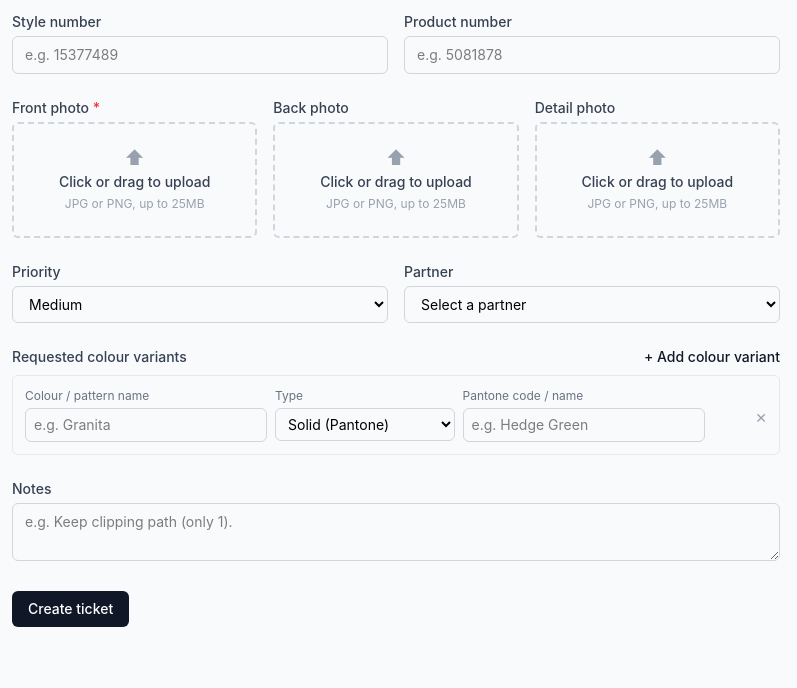
TicketForm › blocks submission and shows an error when there is no front photo
Type "15377489" into the field with placeholder "e.g. 15377489" at (200, 55), box [12,36,388,74]
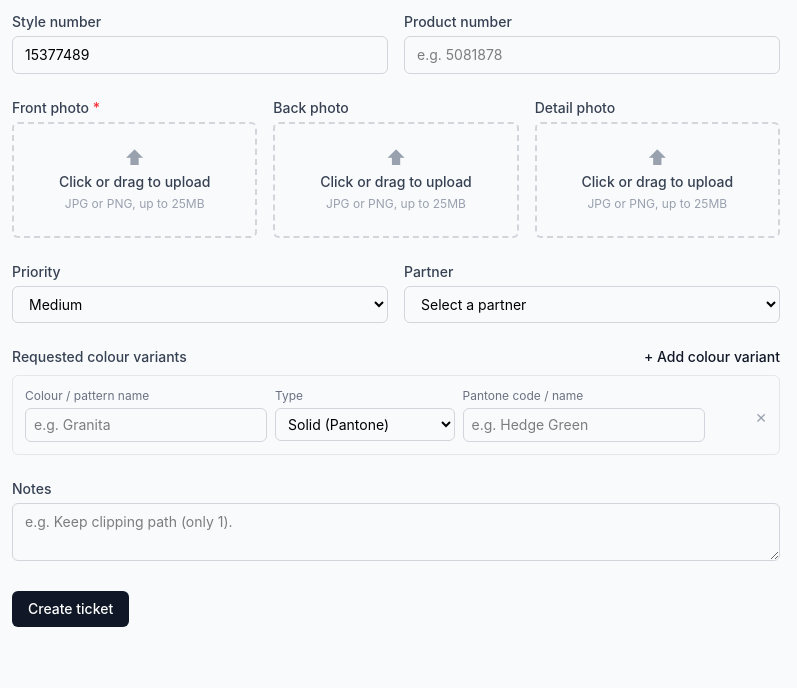
Type "5081878" into the field with placeholder "e.g. 5081878" at (592, 55), box [404,36,780,74]
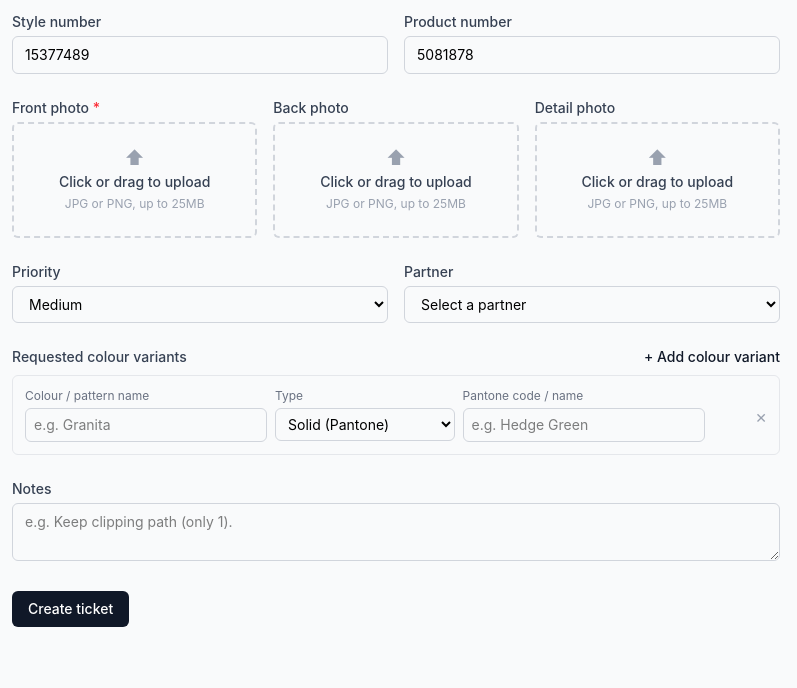
Select "Partner One" in the dropdown below "Partner" at (592, 304), box [404,286,780,323]
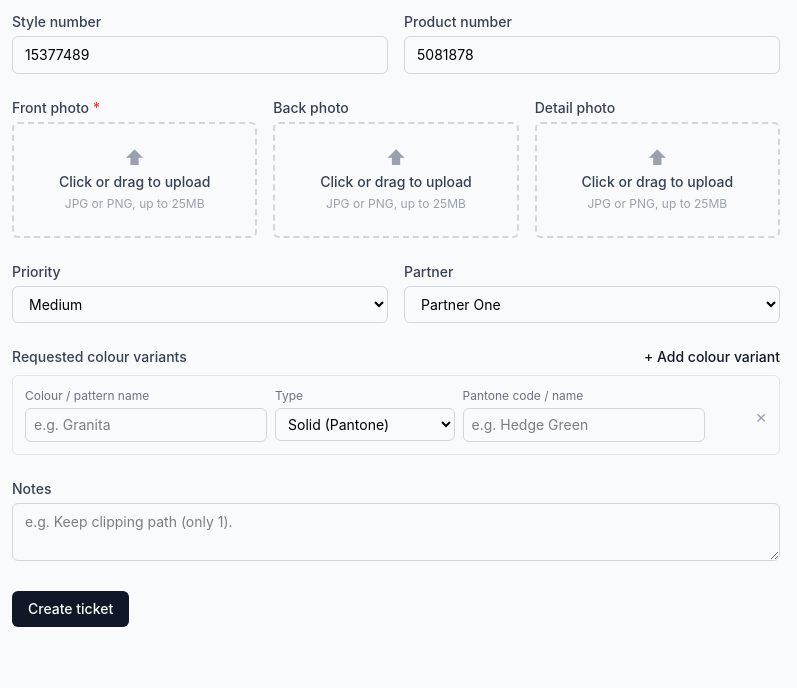
Submit the form
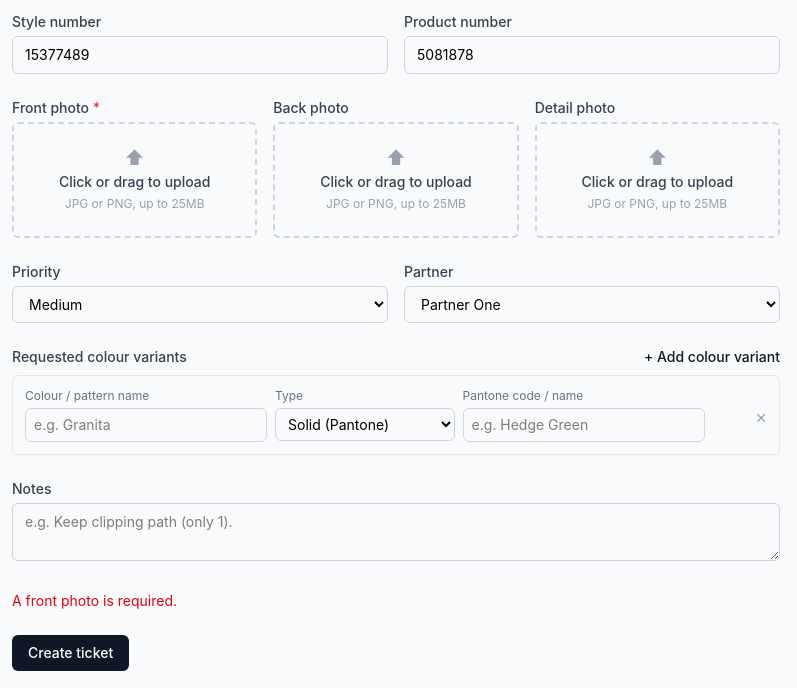
expect the form shows "A front photo is required.": met, box [12,592,177,609]
